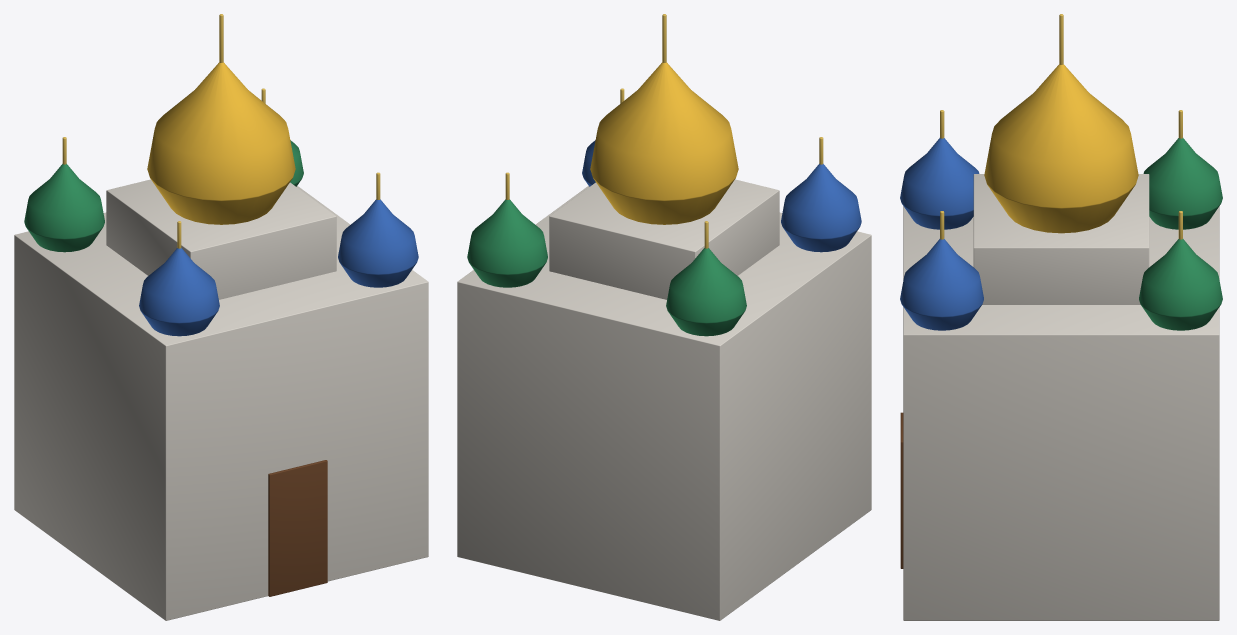
Rendered from rg_russia_1.glb.
3 renders of one model, left to right at view 1: azimuth 30°, elevation 25°; view 2: azimuth 150°, elevation 25°; view 3: azimuth 270°, elevation 25°, orthographic. The views are drawn at different scales.
Parts seen in each view (by area): view 1: rg_russia_1; view 2: rg_russia_1; view 3: rg_russia_1.
Part boxes in pixels (box(x1,y1,x2,y2)): rg_russia_1: box(14, 14, 428, 620); rg_russia_1: box(457, 14, 871, 620); rg_russia_1: box(900, 14, 1222, 620).
Bounding box in the file's own units: 9.19 × 16.96 × 9.19.
